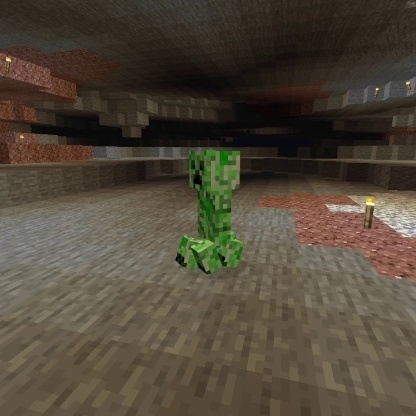creeper: (173, 147, 248, 279)
